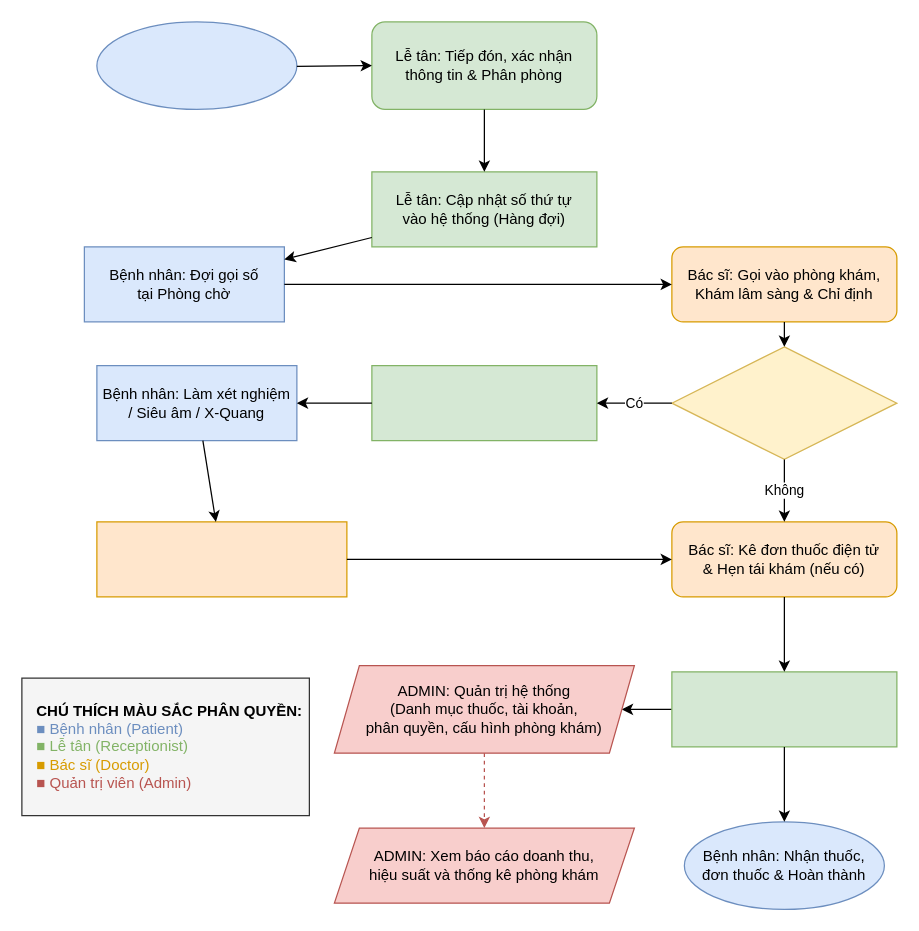
This 919x931 diagram has some shape labels left out. Each missing label, with the box of its shape:
Bác sĩ: Nhận kết quả từ hệ thống & Đưa ra chẩn đoán cuối cùng: (96, 521, 347, 597)
Bệnh nhân: Đăng ký khám (Online hoặc Trực tiếp): (96, 21, 297, 109)
Có chỉ định Xét nghiệm / CĐHA?: (671, 346, 897, 459)
Lễ tân: Thu tiền chỉ định cận lâm sàng: (371, 364, 597, 441)
Lễ tân: Xuất hóa đơn tổng & Thanh toán chi phí khám/thuốc: (671, 671, 897, 747)
